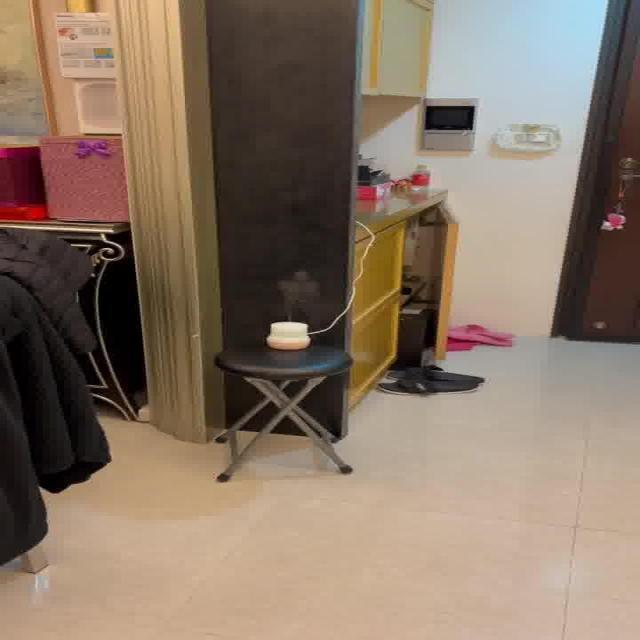fire: (268, 268, 328, 317)
